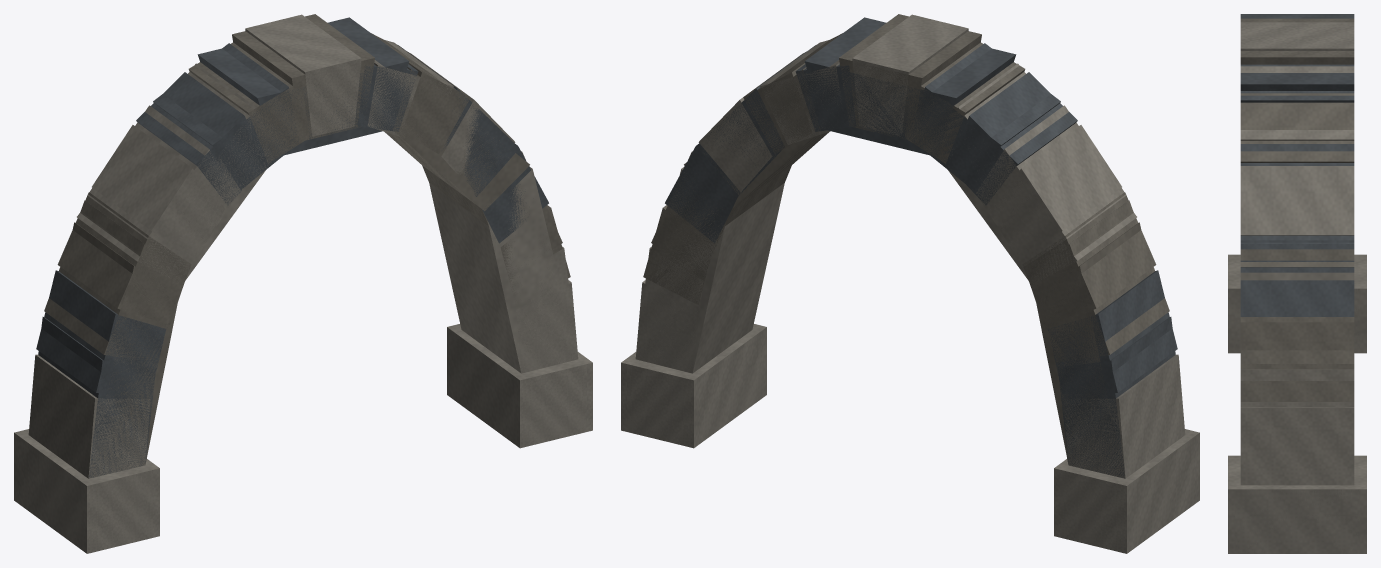
The model's file is CryptArch.fbx.
3 renders of one model, left to right at view 1: azimuth 30°, elevation 25°; view 2: azimuth 150°, elevation 25°; view 3: azimuth 270°, elevation 25°, orthographic. The views are drawn at different scales.
Visible parts, largest first — view 1: CryptArchDetail0, CryptArchDetail1, CryptArchDetail2; view 2: CryptArchDetail0, CryptArchDetail1, CryptArchDetail2; view 3: CryptArchDetail0, CryptArchDetail1, CryptArchDetail2.
Part boxes in pixels (x1,y1,x2,y2): CryptArchDetail0: [17, 14, 589, 552]; CryptArchDetail1: [14, 14, 592, 553]; CryptArchDetail2: [72, 17, 577, 478]; CryptArchDetail0: [624, 14, 1196, 552]; CryptArchDetail1: [621, 14, 1199, 553]; CryptArchDetail2: [636, 17, 1141, 478]; CryptArchDetail0: [1228, 22, 1366, 553]; CryptArchDetail1: [1228, 18, 1366, 553]; CryptArchDetail2: [1240, 14, 1354, 280].
Size of the model in its own units: 444 by 354 by 111.
1 material, 1 textured.
